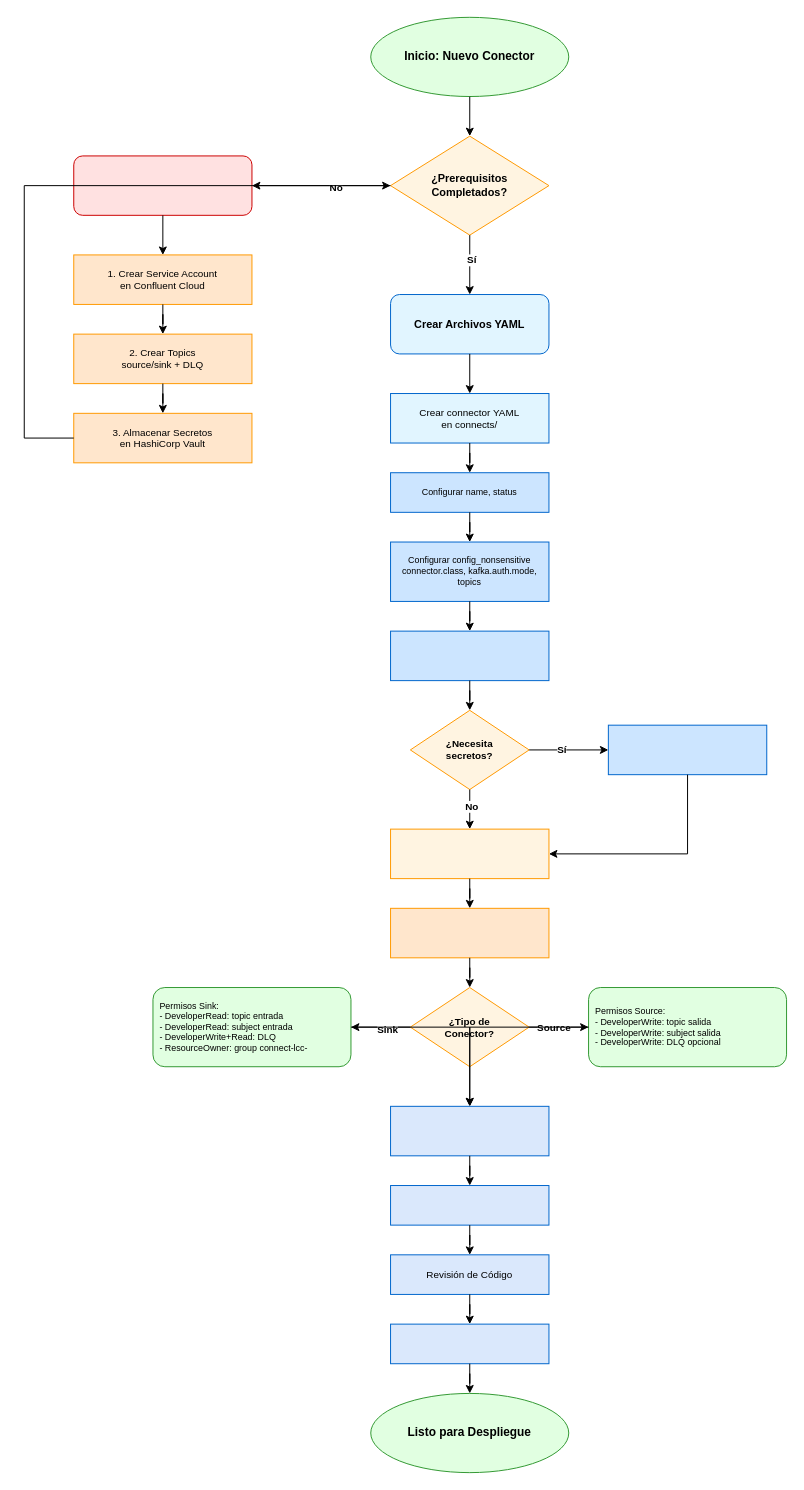
This 804x1490 diagram has some shape labels left out. Here are the shapes that lost their labels. From the top down, the centre of each, then its label:
At [162,185]: "Preparar Prerequisitos".
At [469,655]: "Configurar vault.service_account".
At [687,749]: "Configurar vault.secrets path + field".
At [469,853]: "Crear security YAML en security/".
At [469,932]: "Declarar principal mismo que vault.service_account".
At [469,1130]: "Commit + Push a GitHub".
At [469,1205]: "Crear Pull Request".
At [469,1343]: "Merge a main/master".
